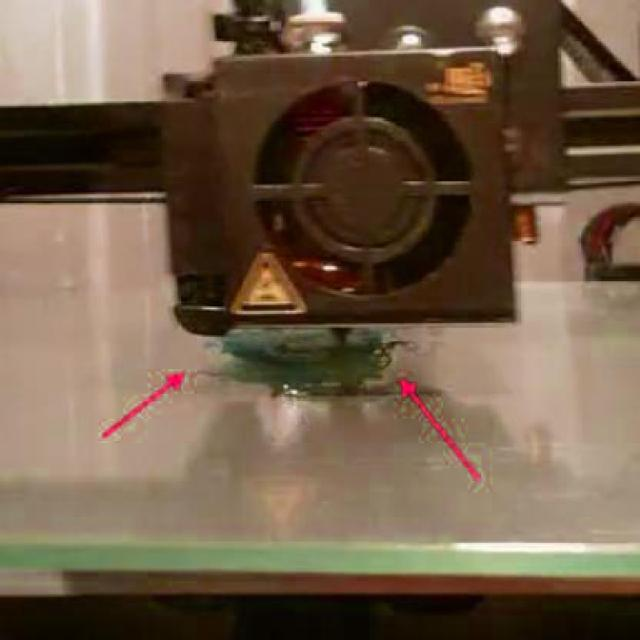Spaghetti: (373, 335, 418, 373), (192, 366, 230, 379)
